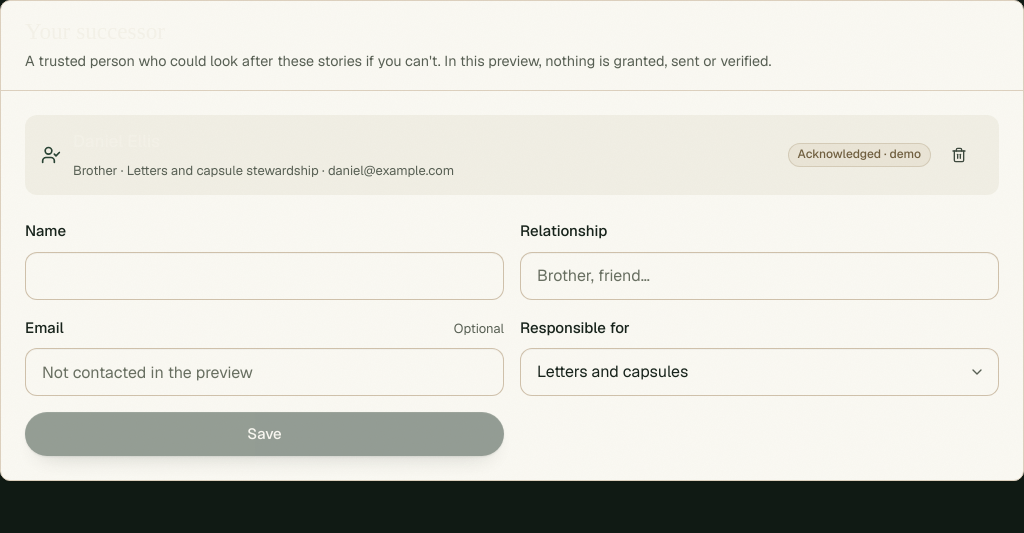
Test: SuccessorPanel › explains a bad email instead of saving
This screenshot has width=1024, height=533.
Type "Ruth" into the field labelled "Name" at (264, 276), box [25,252,504,300]
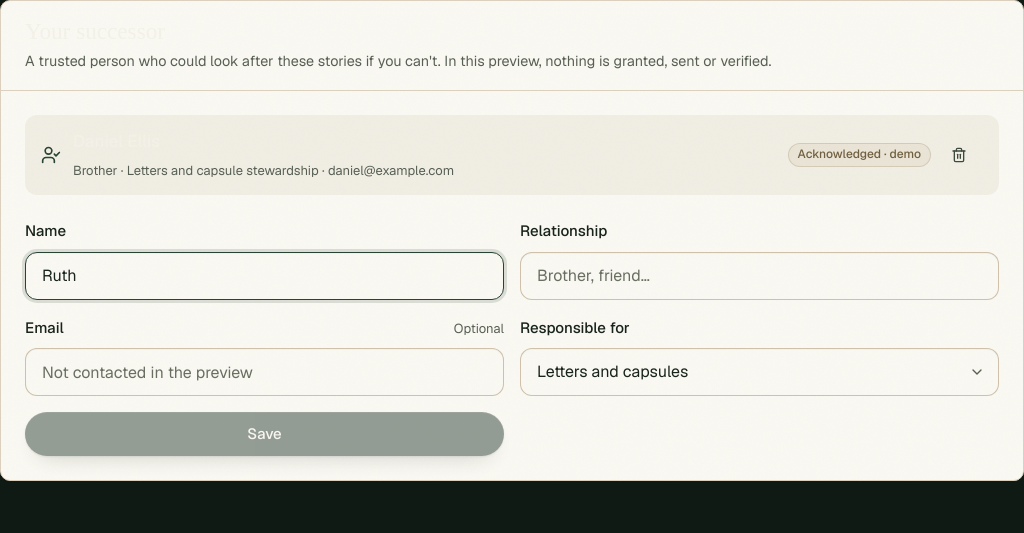
Type "Cousin" into the field labelled "Relationship" at (760, 276), box [520,252,999,300]
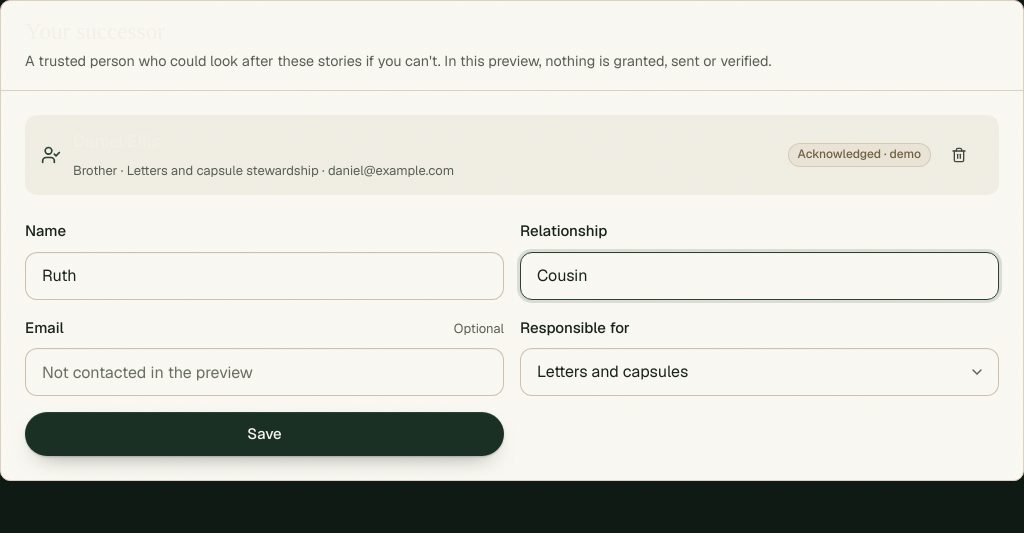
Type "not-an-email" into the field labelled "Email" at (264, 372), box [25,348,504,396]
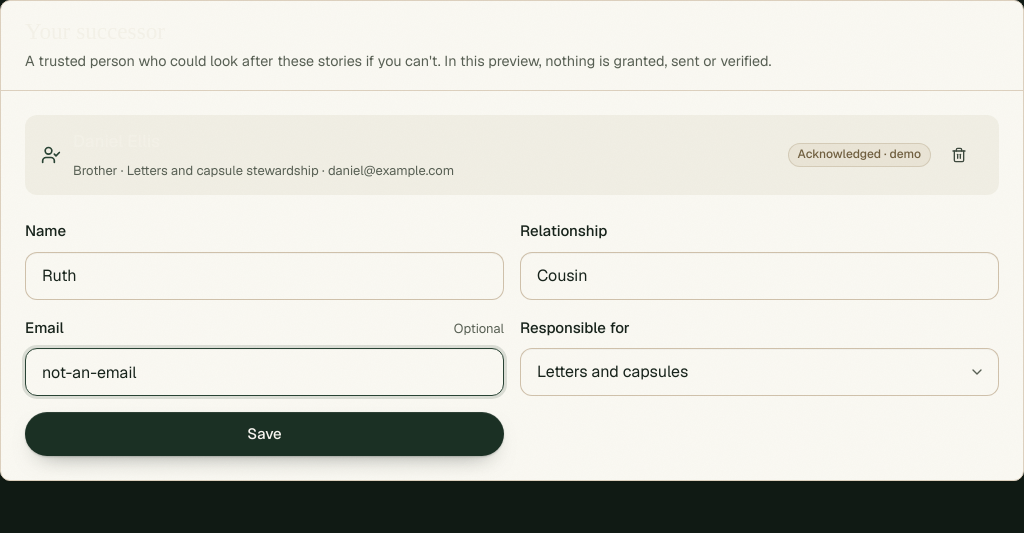
Click the button "Save" at (264, 434), box [25,412,504,456]
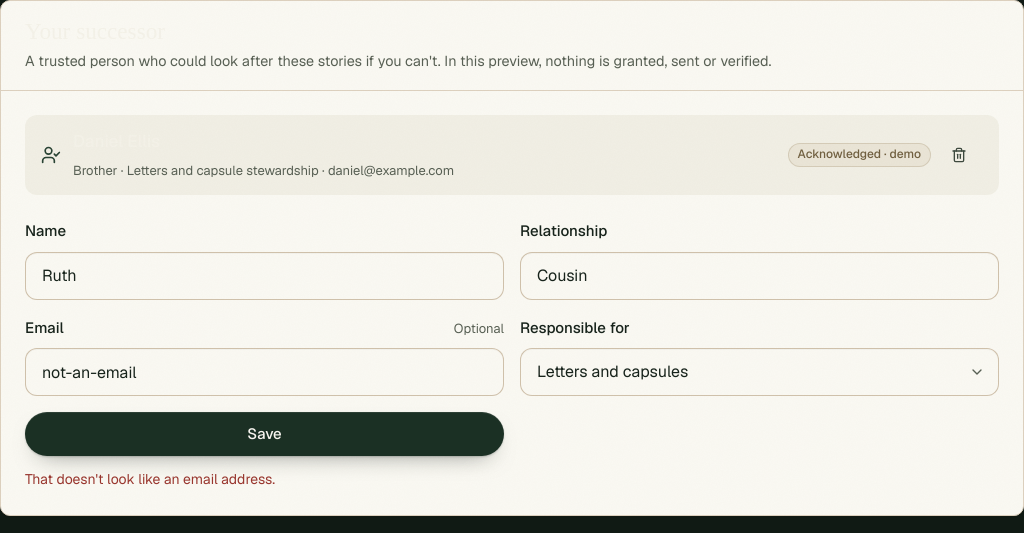
Now the message "That doesn't look like an email address." is shown, box [25,470,275,488]
